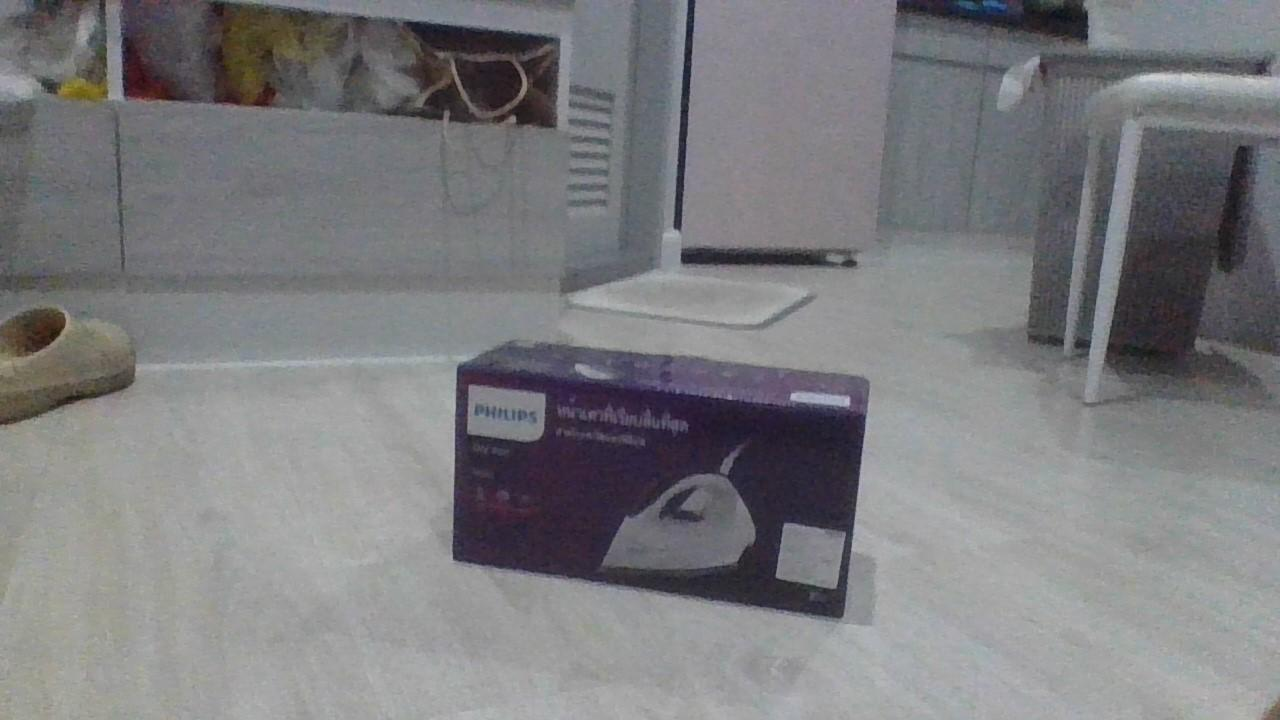IRON: (447, 334, 874, 623)
